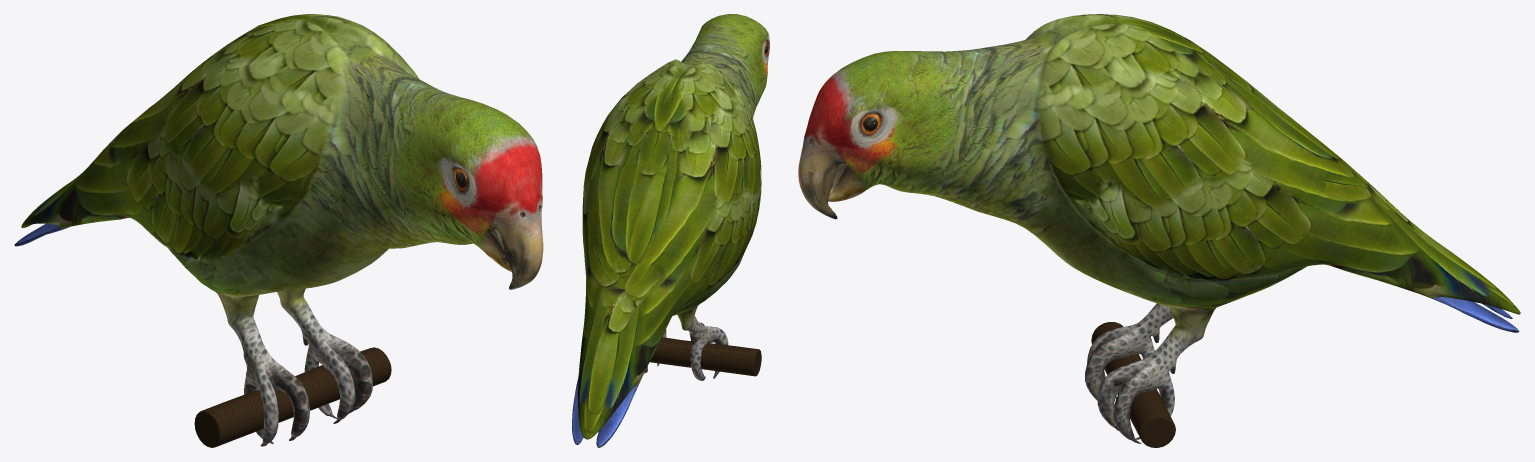
The model's file is LoraCopeteRojo.glb.
The picture shows the model from 3 angles, left to right: view 1: azimuth 30°, elevation 25°; view 2: azimuth 150°, elevation 25°; view 3: azimuth 270°, elevation 25°; orthographic projection. The views are drawn at different scales.
Parts seen in each view (by area): view 1: LoraCopeteRojo; view 2: LoraCopeteRojo; view 3: LoraCopeteRojo.
Boxes of the visible parts, box(x1,y1,x2,y2) form: LoraCopeteRojo: box(14, 14, 543, 447); LoraCopeteRojo: box(572, 14, 769, 447); LoraCopeteRojo: box(798, 14, 1520, 447).
Size of the model in its own units: 1.44 by 2.68 by 4.34.
2 materials, 2 textured.
